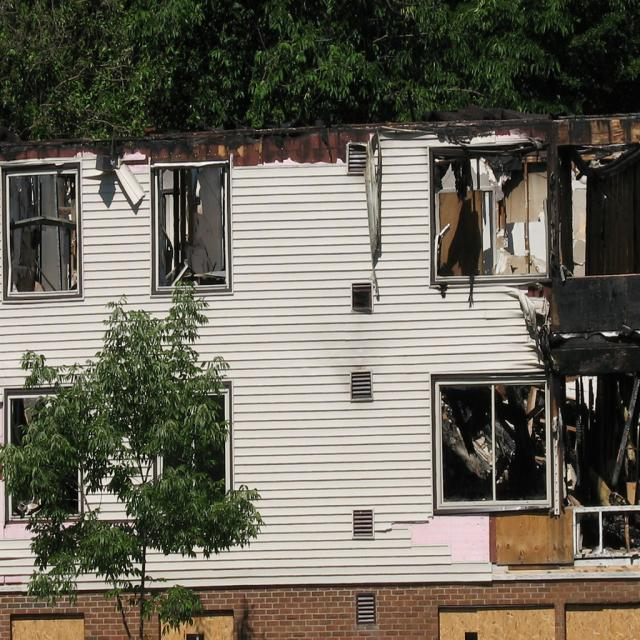no_fire: (19, 102, 616, 598)
